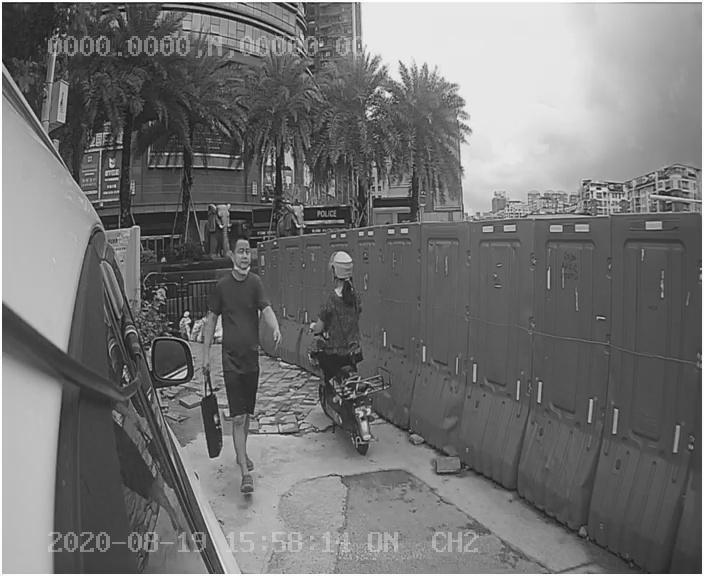person: (196, 234, 295, 503)
